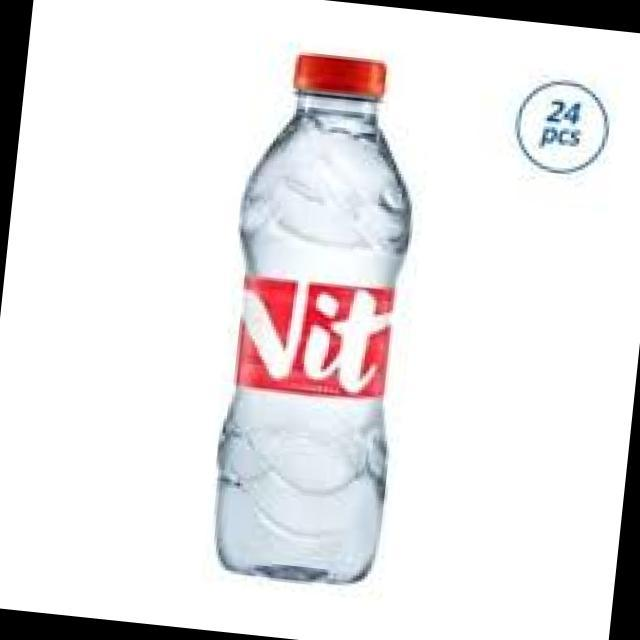good: (156, 19, 483, 624)
